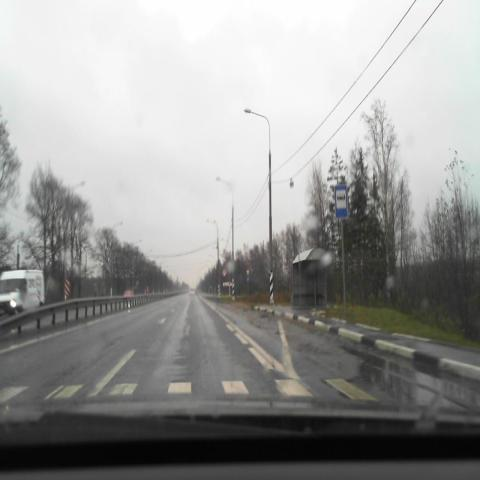5_16: (335, 184, 348, 219)
